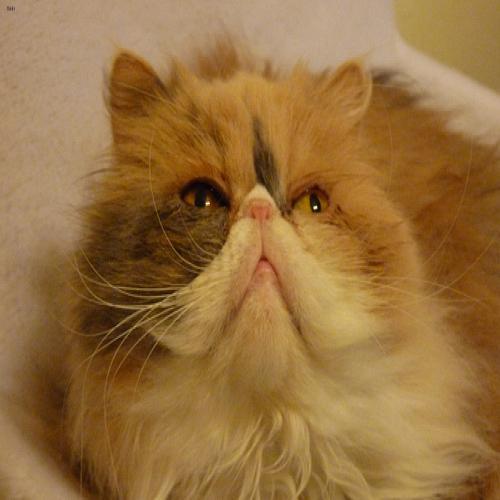persian: (97, 34, 421, 414)
